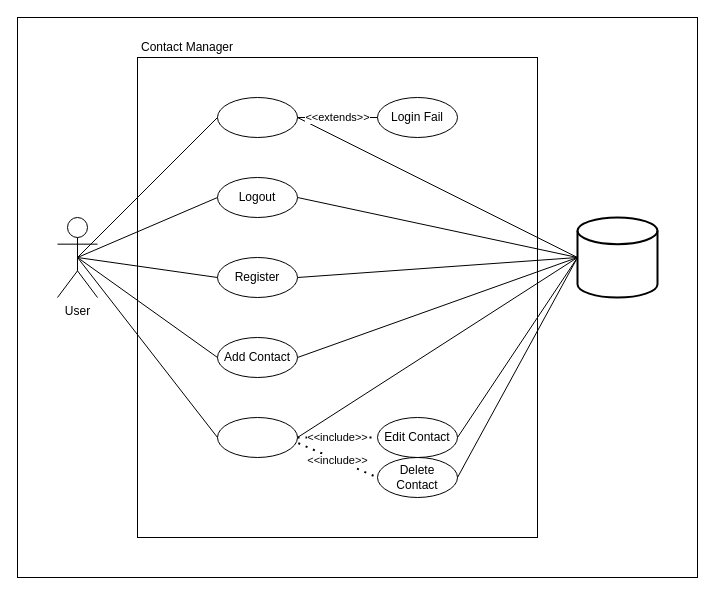
The diagram is 715 pixels wide and 595 high, and some of its shapes have lost their labels. Each missing label, with the centre of its shape:
Database: the point at 617,257
Login: the point at 257,117
Search Contact: the point at 257,437
